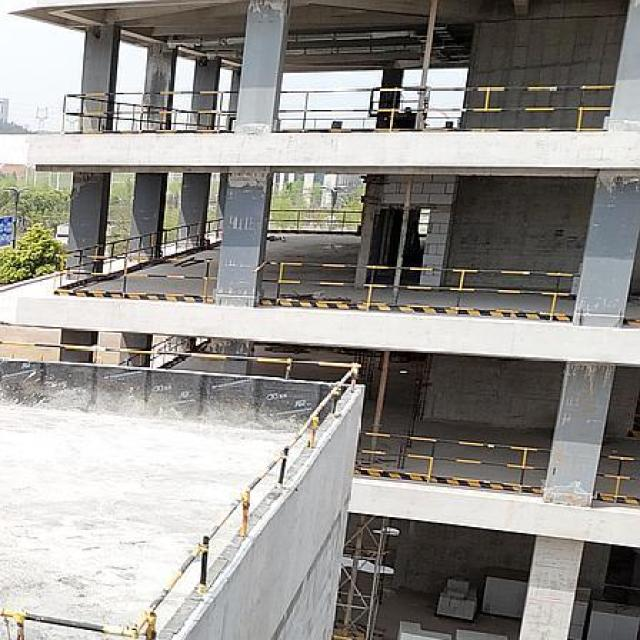edge_guardrail: (0, 338, 363, 640), (260, 260, 581, 323), (277, 85, 616, 132), (53, 216, 224, 303), (357, 431, 552, 495), (61, 90, 239, 134), (268, 208, 362, 236), (594, 454, 640, 504), (118, 336, 188, 368)
